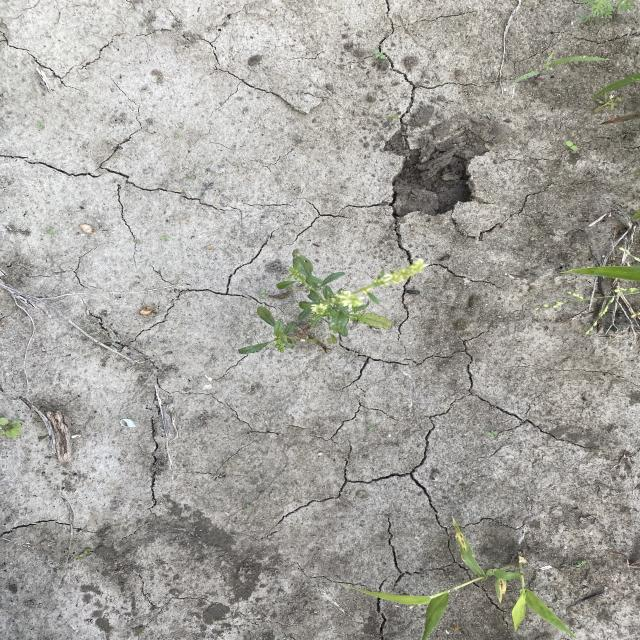Ragweed: (575, 1, 639, 22)
Waterhemp: (236, 248, 431, 357)
